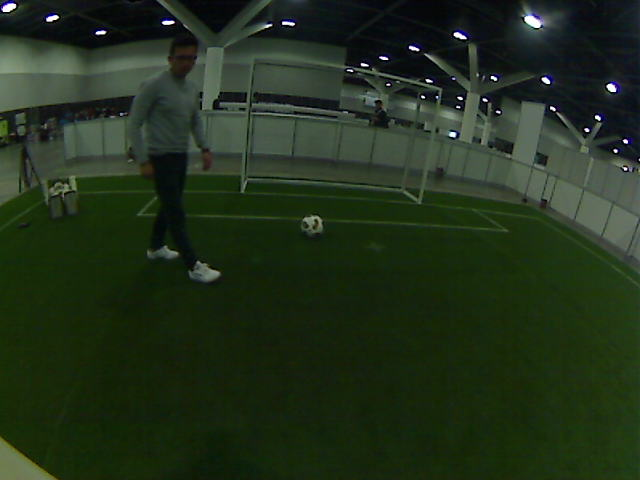ball: (291, 205, 331, 245)
goalpost: (398, 145, 438, 205), (224, 133, 264, 193)
robot: (50, 164, 78, 213)
